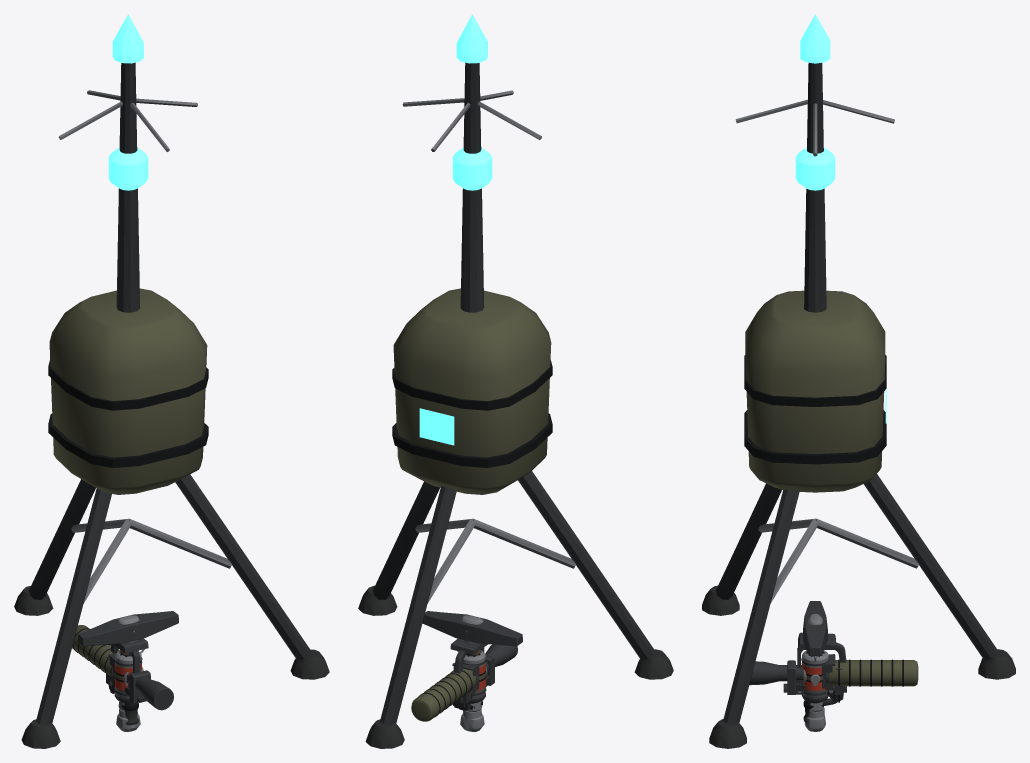
The model's file is attachments.glb.
3 views of the same model, side by side, from view 1: azimuth 30°, elevation 25°; view 2: azimuth 150°, elevation 25°; view 3: azimuth 270°, elevation 25° (orthographic).
Visible parts, largest first — view 1: Beacon, Hilt_great, Optic_scope, Muzzle_suppressor, Nade_2; view 2: Beacon, Hilt_great, Muzzle_suppressor, Optic_scope, Hilt_sword, Nade_2; view 3: Beacon, Muzzle_suppressor, Optic_scope, Hilt_great, Nade_2, Hilt_sword.
Part boxes in pixels (x1,y1,x2,y2): Beacon: [14, 14, 329, 748]; Hilt_great: [77, 611, 178, 731]; Optic_scope: [106, 657, 173, 710]; Muzzle_suppressor: [72, 625, 119, 675]; Nade_2: [114, 650, 142, 702]; Beacon: [358, 14, 673, 748]; Hilt_great: [422, 611, 522, 731]; Muzzle_suppressor: [411, 668, 476, 721]; Optic_scope: [450, 644, 517, 703]; Hilt_sword: [450, 639, 487, 711]; Nade_2: [463, 650, 486, 702]; Beacon: [702, 14, 1015, 748]; Muzzle_suppressor: [828, 659, 918, 686]; Optic_scope: [749, 660, 846, 694]; Hilt_great: [803, 601, 827, 731]; Nade_2: [801, 650, 829, 702]; Hilt_sword: [798, 632, 846, 711].
Size of the model in its own units: 0.8965 by 2 by 0.7943.
